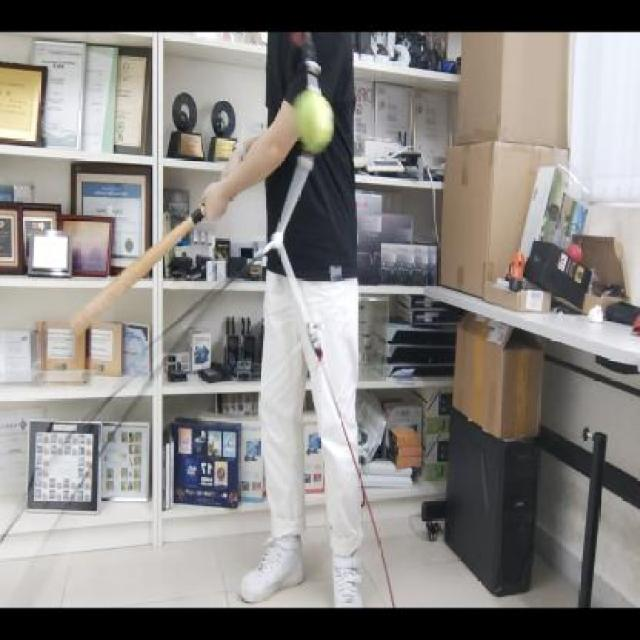baseball: (292, 89, 337, 154)
